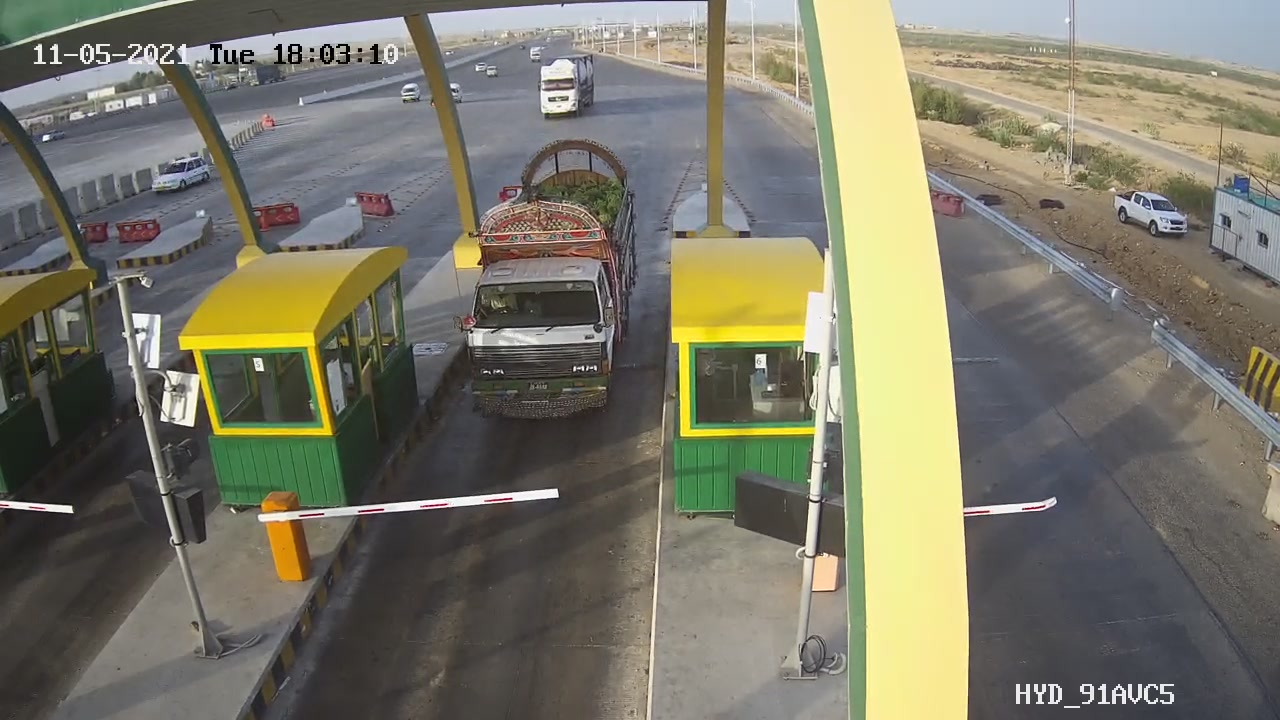F5: (424, 121, 655, 448)
